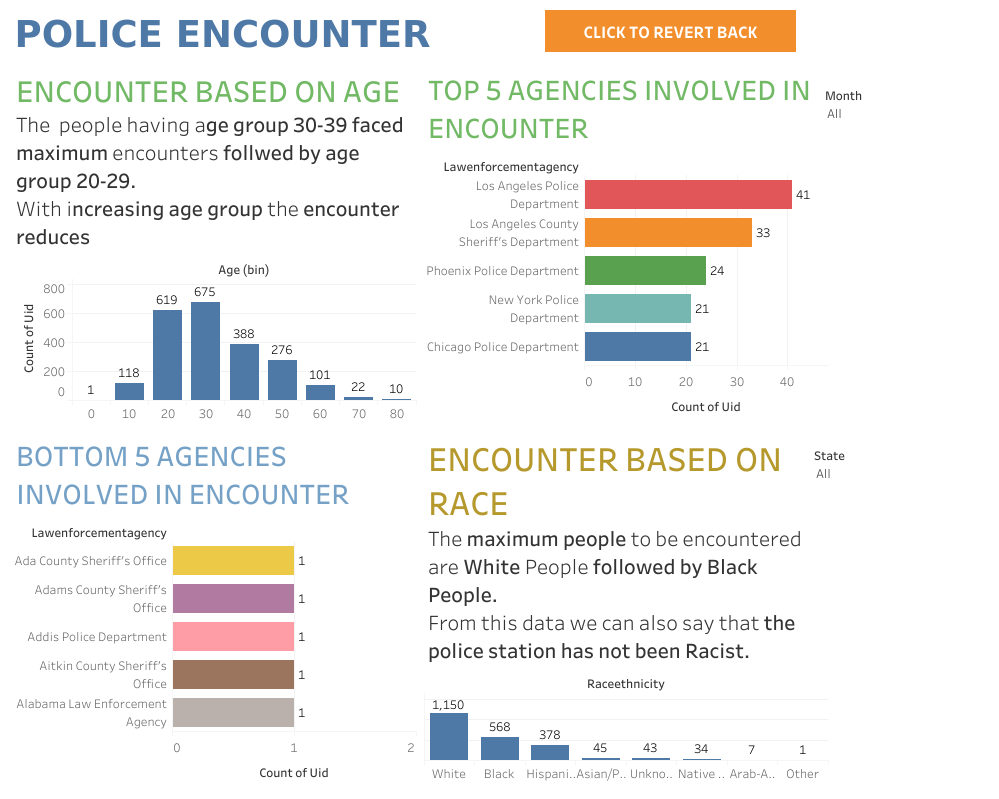

This screenshot's page, from the dashboard's own definition file:
{"tool":"tableau","page":{"name":"POLICE ENCOUNTER 2","canvas":[1000,800],"ordinal":1},"visuals":[{"type":"title","box":[8,8,824,56]},{"type":"dashboard-object","box":[545,10,251,42]},{"type":"worksheet","title":"Encounter Age","mark":"Automatic","rows":["uid"],"cols":["Age (bin)"],"box":[8,64,412,364]},{"type":"worksheet","title":"Top 5","mark":"Automatic","rows":["lawenforcementagency"],"cols":["uid"],"box":[420,64,412,364]},{"type":"filter","title":"Encounter Race","param":"[federated.1ggvuyj1x2qh2l18j8qhv034s8vt].[none:month:nk]","box":[825,85,168,52]},{"type":"worksheet","title":"Bottom 5","mark":"Automatic","rows":["lawenforcementagency"],"cols":["uid"],"box":[8,428,412,364]},{"type":"worksheet","title":"Encounter Race","mark":"Automatic","rows":["uid"],"cols":["raceethnicity"],"box":[420,428,412,364]},{"type":"filter","title":"Encounter Race","param":"[federated.1ggvuyj1x2qh2l18j8qhv034s8vt].[none:state:nk]","box":[814,445,168,52]}]}

Visuals, with their boxes in screenshot pixels (x1, y1, x2, y2), scaled from the page's 1000x800 canvas onto the 999x799 screenshot:
title: x1=8 y1=8 x2=831 y2=64
dashboard-object: x1=544 y1=10 x2=795 y2=52
"Encounter Age" worksheet: x1=8 y1=64 x2=420 y2=427
"Top 5" worksheet: x1=420 y1=64 x2=831 y2=427
"Encounter Race" filter: x1=824 y1=85 x2=992 y2=137
"Bottom 5" worksheet: x1=8 y1=427 x2=420 y2=791
"Encounter Race" worksheet: x1=420 y1=427 x2=831 y2=791
"Encounter Race" filter: x1=813 y1=444 x2=981 y2=496
